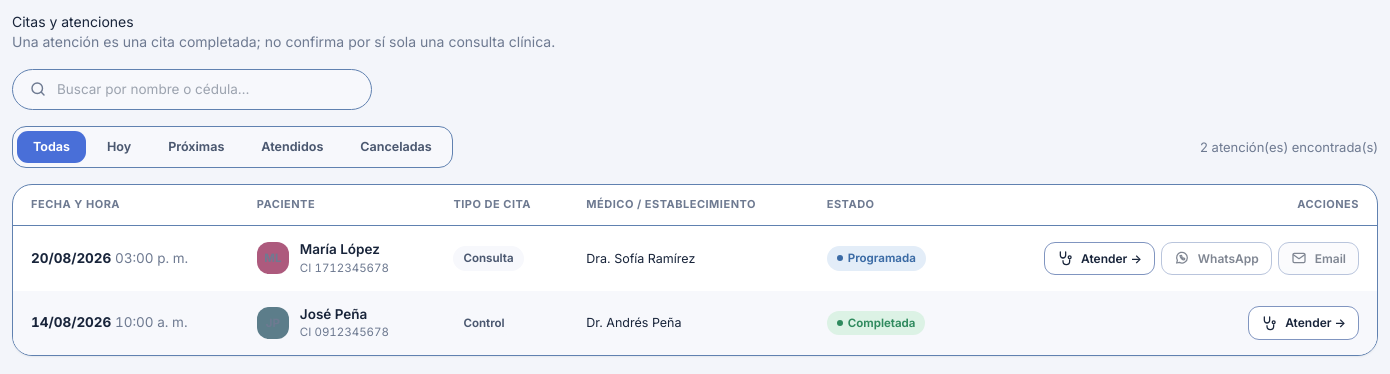
PatientAppointmentsTab search › filters by cédula
Expected: the text "María López" is shown, [300,241,380,257]
Type "1712345678" into the field with placeholder "Buscar por nombre o cédula…" at [206, 89], box [57,80,355,99]
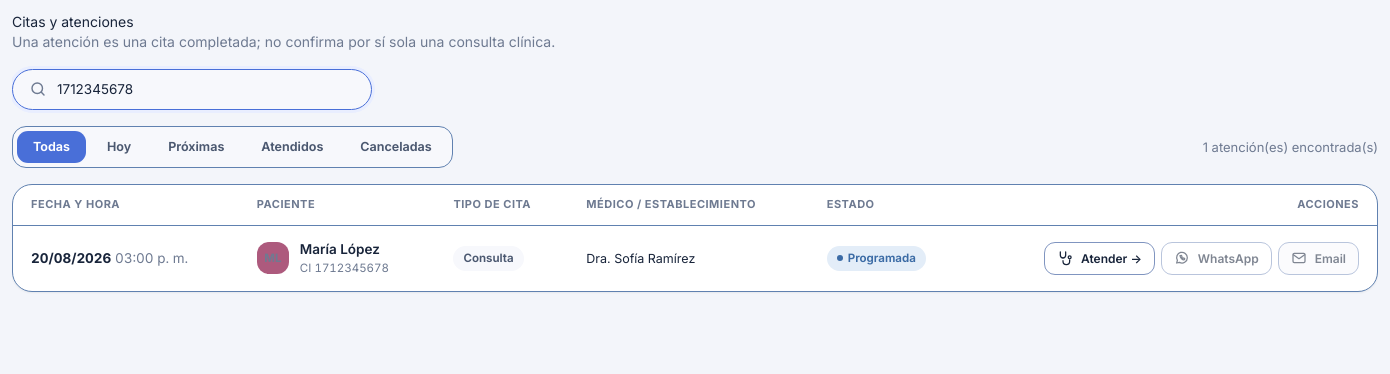
Expected: the text "María López" is shown, [300,241,380,257]
Expected: the link "José Peña" is gone
